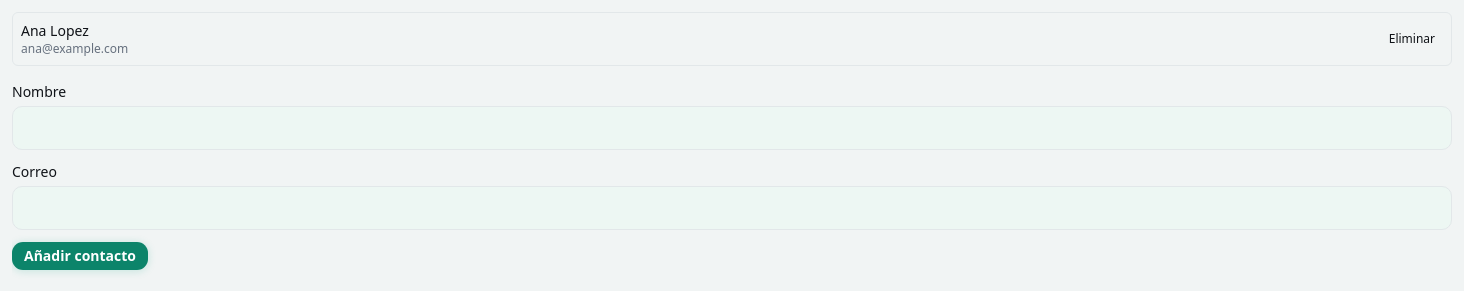
ContactsSettings › requires a confirmation step before deleting a contact, and only deletes after confirming
Check: the text "Ana Lopez" is shown, box [21,21,89,41]
Click the button "Eliminar". click: (1412, 39)
box: [1381,27,1443,51]
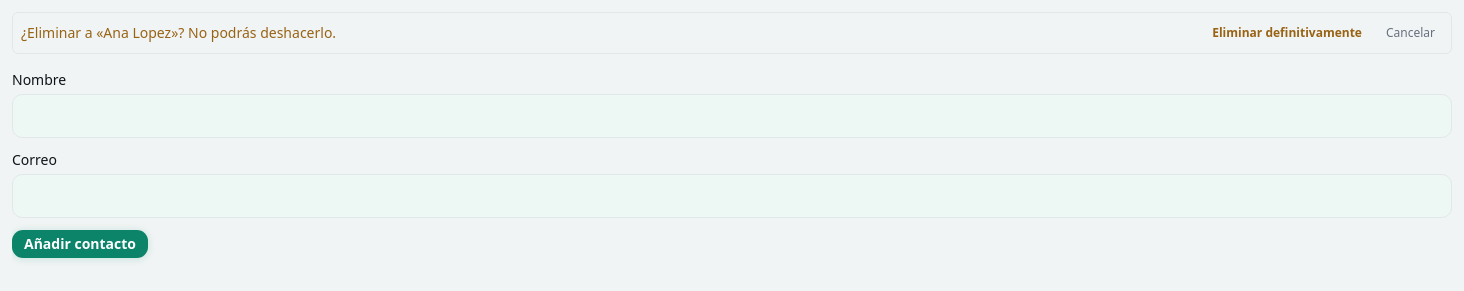
Click the button "Eliminar definitivamente". click: (1287, 33)
box: [1204,21,1370,45]
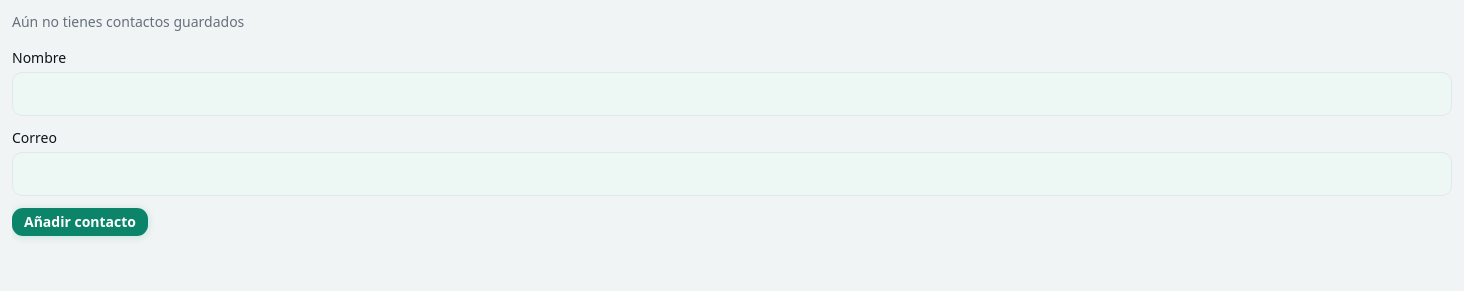
Check: the text "Aún no tienes contactos guardados" is shown, box [12,12,244,31]
